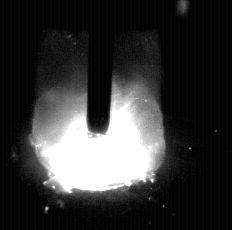arame: (87, 0, 111, 133)
poca: (34, 0, 166, 230)
